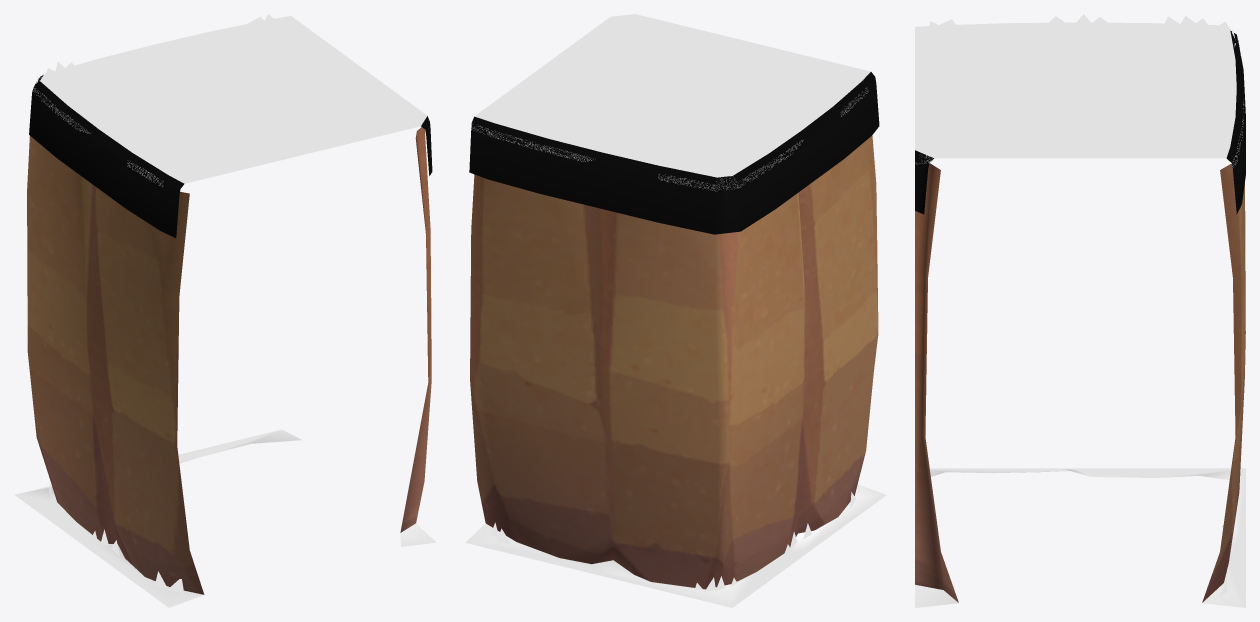
3 views of the same model, side by side, from view 1: azimuth 30°, elevation 25°; view 2: azimuth 150°, elevation 25°; view 3: azimuth 270°, elevation 25° (orthographic). The views are drawn at different scales.
Visible parts, largest first — view 1: CliffThin__mCliff, GrassT__mGrass, GrassOP_1__mGrassCliffXlu, GrassB_1__mGrass, PGrassBC__mProcGrass; view 2: CliffThin__mCliff, GrassT__mGrass, GrassOP_1__mGrassCliffXlu, GrassB_1__mGrass, PGrassBC__mProcGrass; view 3: GrassT__mGrass, CliffThin__mCliff, GrassB_1__mGrass, GrassOP_1__mGrassCliffXlu, PGrassBC__mProcGrass.
Part boxes in pixels (bbox=[...]): CliffThin__mCliff: bbox=[27, 127, 431, 594]; GrassT__mGrass: bbox=[34, 16, 427, 186]; GrassOP_1__mGrassCliffXlu: bbox=[29, 75, 432, 237]; GrassB_1__mGrass: bbox=[14, 429, 435, 607]; PGrassBC__mProcGrass: bbox=[37, 14, 274, 593]; CliffThin__mCliff: bbox=[470, 135, 878, 589]; GrassT__mGrass: bbox=[471, 14, 870, 191]; GrassOP_1__mGrassCliffXlu: bbox=[469, 72, 879, 234]; GrassB_1__mGrass: bbox=[465, 484, 886, 607]; PGrassBC__mProcGrass: bbox=[491, 68, 862, 592]; GrassT__mGrass: bbox=[915, 22, 1243, 167]; CliffThin__mCliff: bbox=[915, 163, 1245, 602]; GrassB_1__mGrass: bbox=[915, 468, 1245, 607]; GrassOP_1__mGrassCliffXlu: bbox=[915, 30, 1245, 214]; PGrassBC__mProcGrass: bbox=[927, 14, 1235, 597].
Bounding box in the file's own units: 10 × 15.34 × 10.
Materials: 4 (1 with a texture image).
